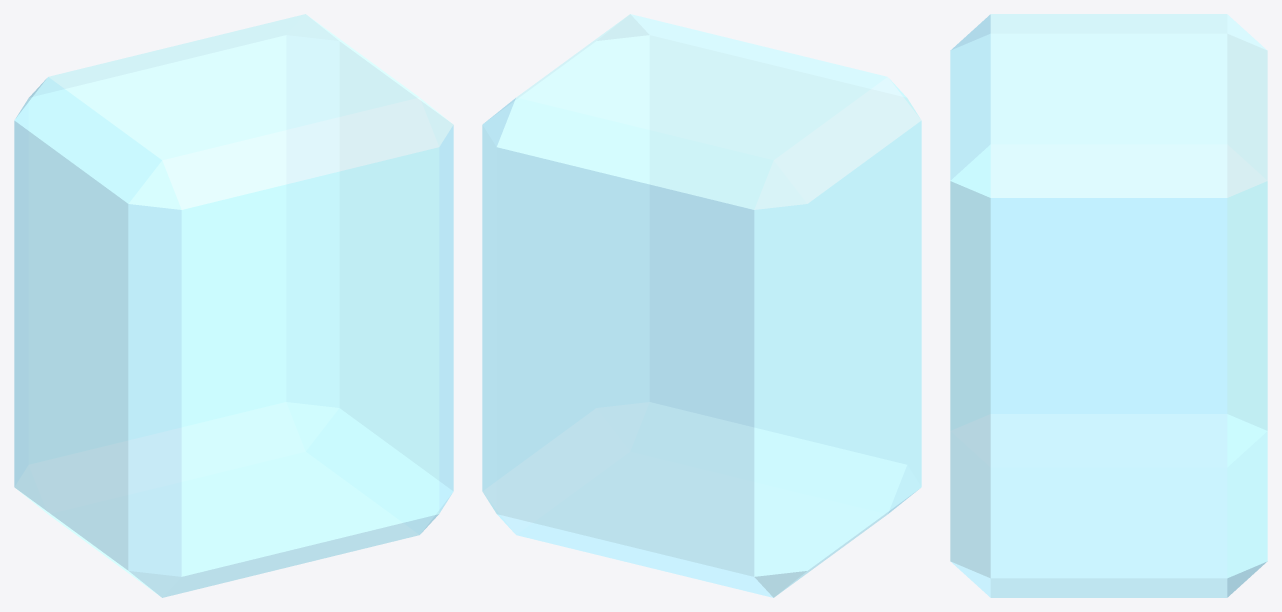
File: HalfBrick.fbx
3 views of the same model, side by side, from view 1: azimuth 30°, elevation 25°; view 2: azimuth 150°, elevation 25°; view 3: azimuth 270°, elevation 25° (orthographic). The views are drawn at different scales.
Visible parts, largest first — view 1: Cube; view 2: Cube; view 3: Cube.
Part boxes in pixels (bbox=[...]): Cube: bbox=[14, 14, 453, 597]; Cube: bbox=[482, 14, 921, 597]; Cube: bbox=[950, 14, 1267, 597].
Bounding box in the file's own units: 11.54 × 14.84 × 9.41.
